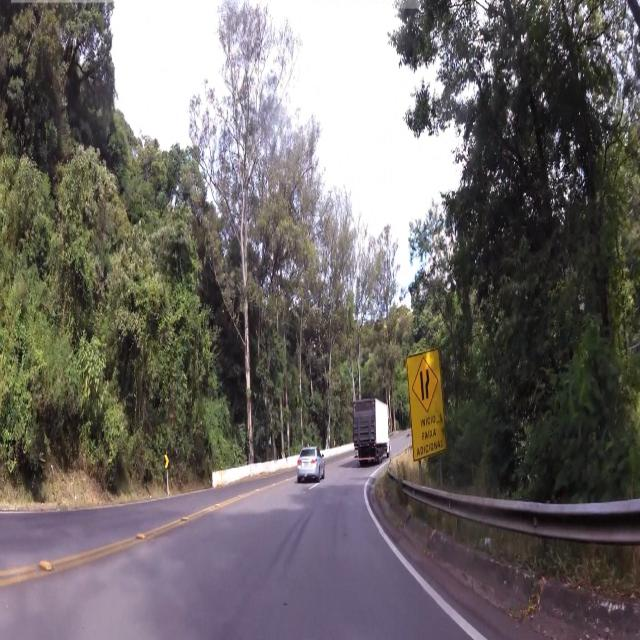A-21e: (413, 355, 440, 416)
